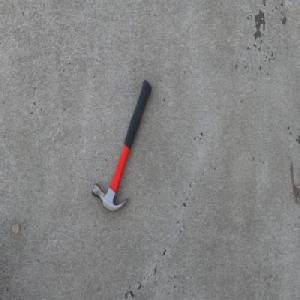Hammer: (92, 78, 152, 213)
